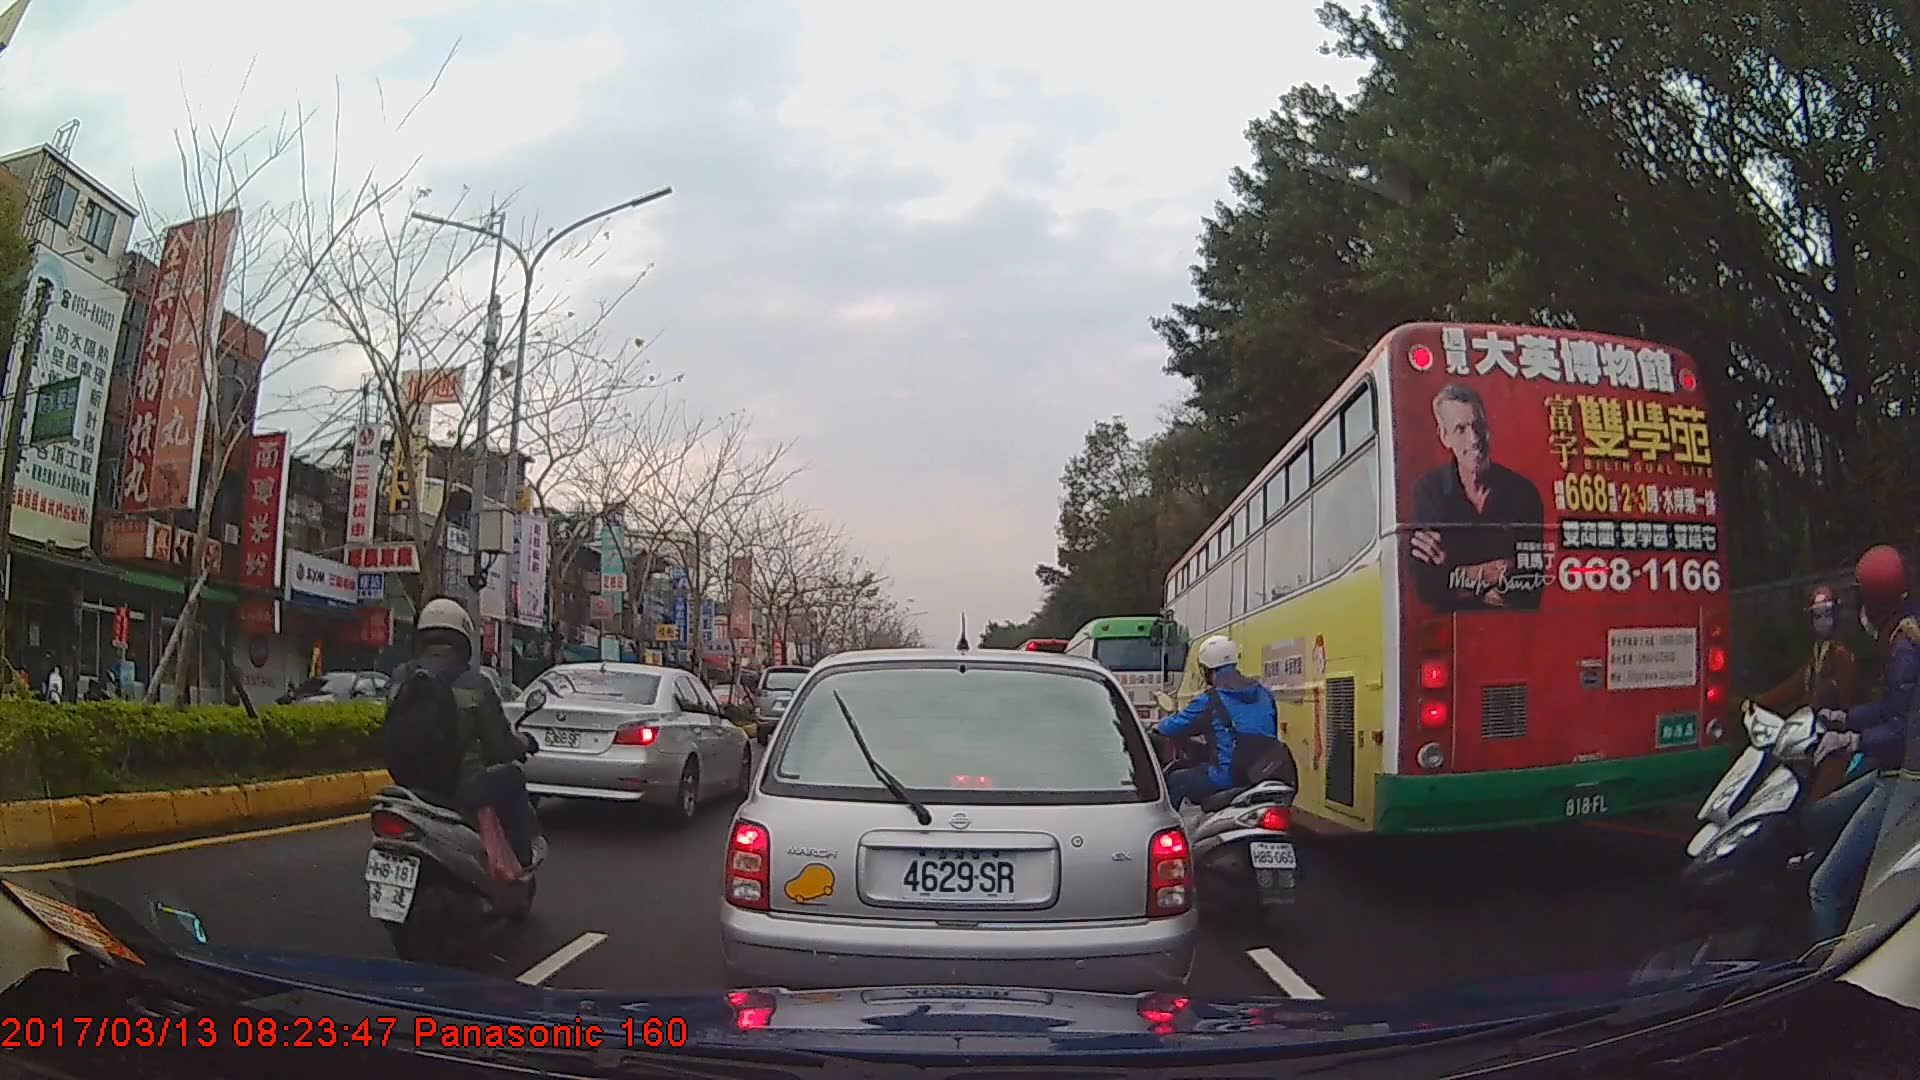rider: (1657, 545, 1920, 998), (368, 601, 547, 953), (1148, 635, 1299, 931)
vehicle: (1160, 319, 1727, 851), (716, 647, 1196, 1030), (495, 659, 750, 824), (1059, 616, 1188, 762), (258, 663, 424, 735)
